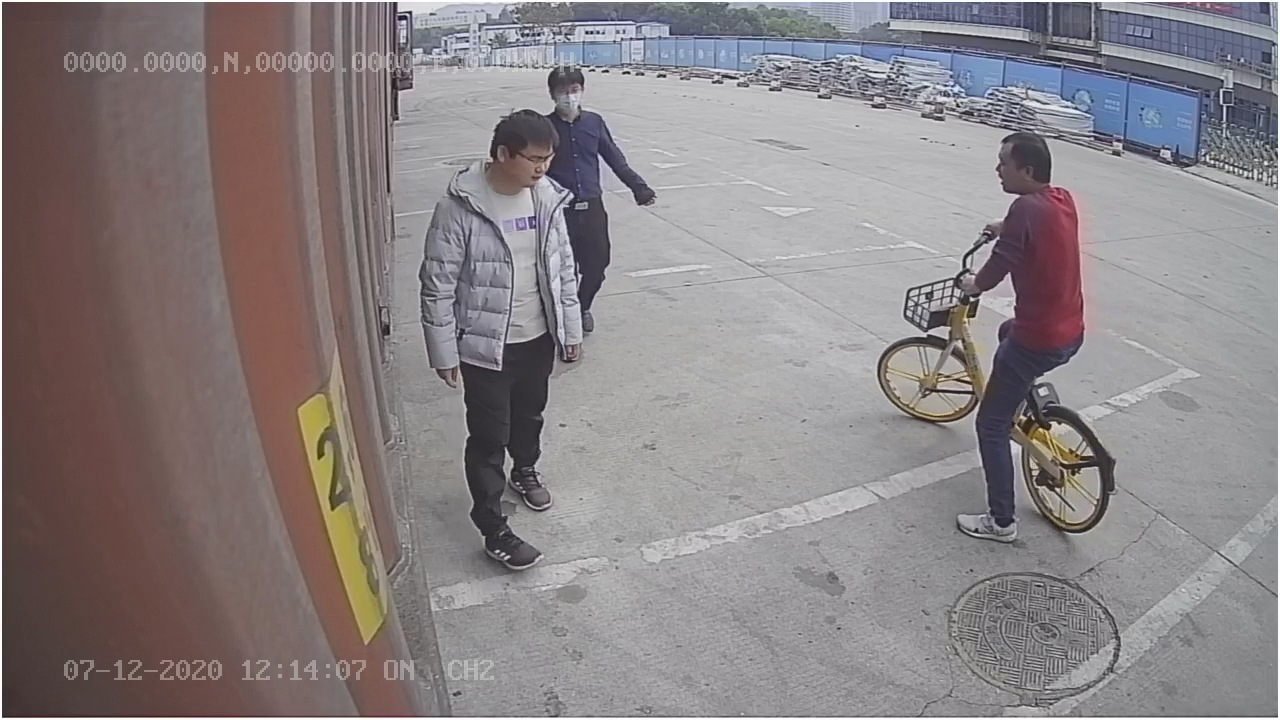person: (422, 109, 582, 569)
